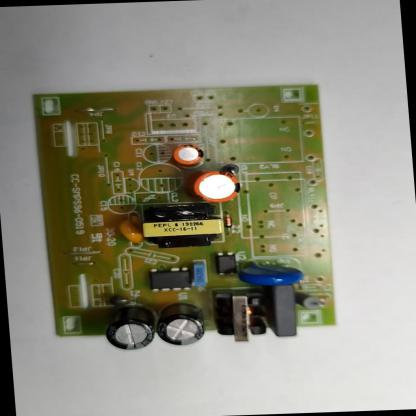Cap1: (188, 169, 244, 204)
Cap2: (170, 142, 205, 166)
Cap3: (153, 300, 208, 348)
Cap4: (104, 304, 154, 351)
MOSFET: (146, 266, 196, 292)
Mov: (234, 258, 306, 288)
Resistor: (293, 290, 324, 310)
Transformer: (139, 202, 231, 250), (215, 290, 271, 344)
